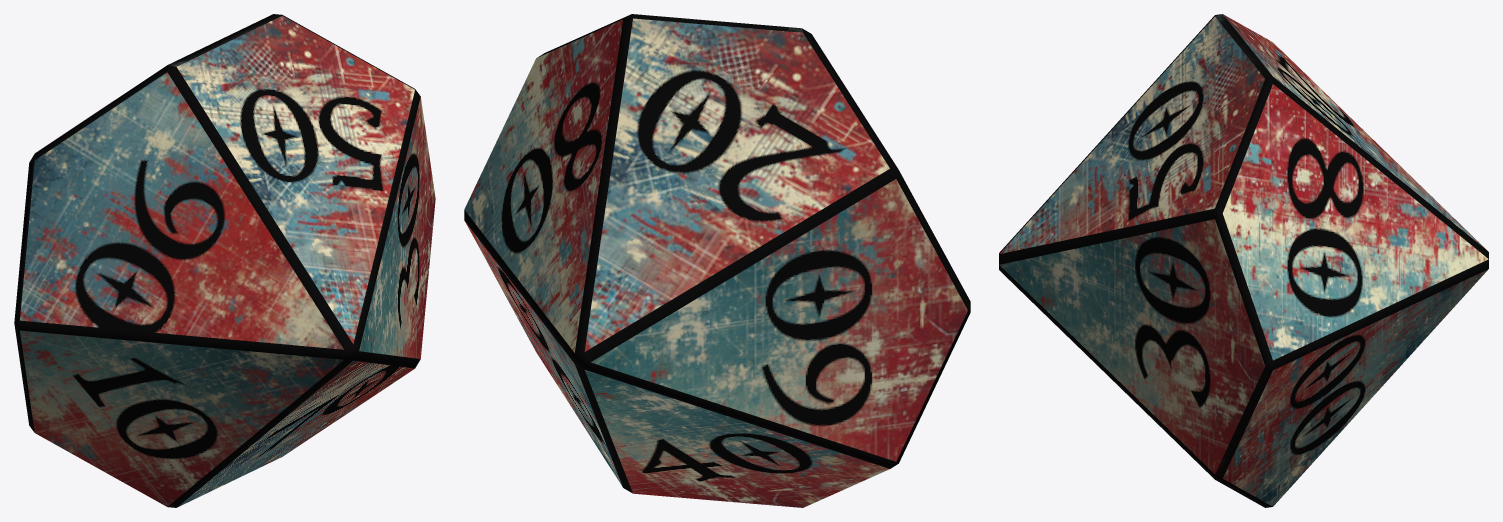
Rendered from chanced10x2.glb.
3 views of the same model, side by side, from view 1: azimuth 30°, elevation 25°; view 2: azimuth 150°, elevation 25°; view 3: azimuth 270°, elevation 25° (orthographic). The views are drawn at different scales.
Parts seen in each view (by area): view 1: Mesh_0; view 2: Mesh_0; view 3: Mesh_0.
Part boxes in pixels (box(x1,y1,x2,y2)): Mesh_0: box(14, 14, 435, 507); Mesh_0: box(464, 14, 970, 507); Mesh_0: box(999, 14, 1488, 507).
Bounding box in the file's own units: 175 × 166 × 172.
Materials: 1 (1 with a texture image).
